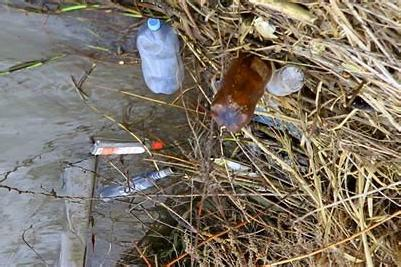Glass: (98, 165, 178, 203), (86, 135, 163, 156)
Plastic: (208, 56, 272, 135), (134, 18, 185, 95), (267, 65, 304, 97)
